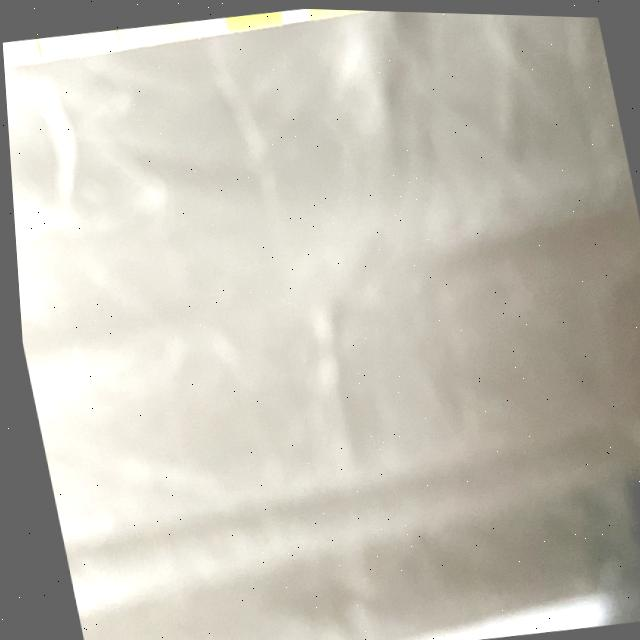Blood: (224, 8, 279, 28)
Protein: (61, 27, 117, 55)
SpGravity: (306, 7, 366, 15)
Urobilinogen: (2, 38, 35, 65)
pH: (143, 18, 198, 41)
